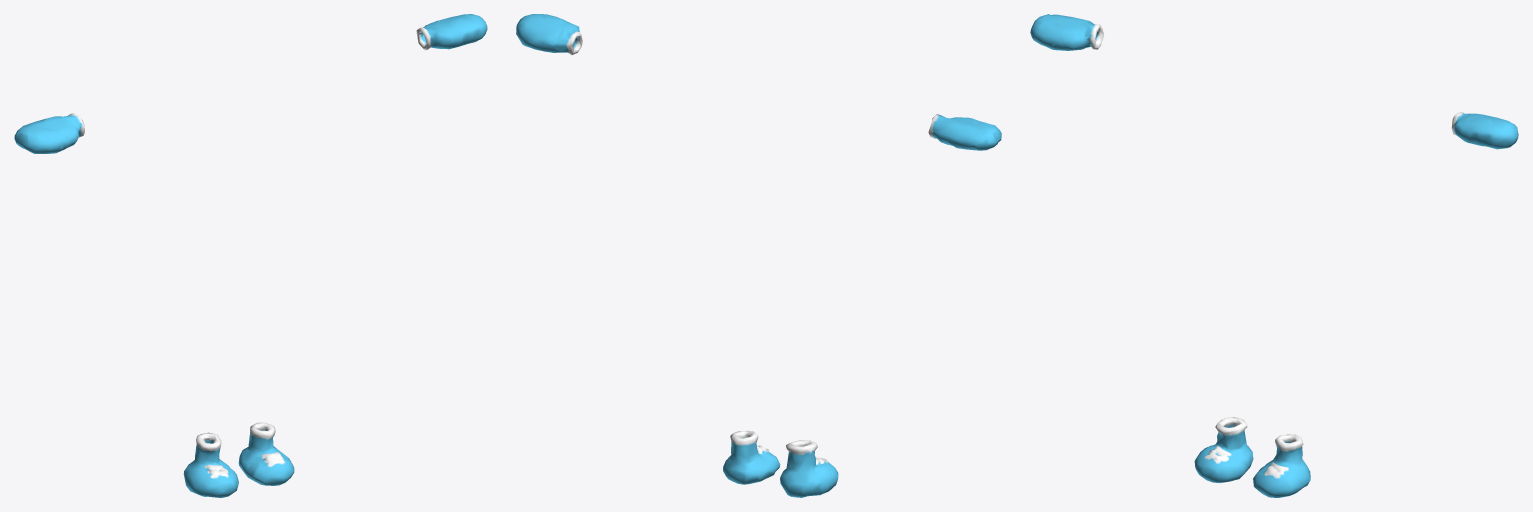
File: blue shoes and gloves.glb
3 views of the same model, side by side, from view 1: azimuth 30°, elevation 25°; view 2: azimuth 150°, elevation 25°; view 3: azimuth 330°, elevation 25° (orthographic). The views are drawn at different scales.
Visible parts, largest first — view 1: accessories_christmas_blue.001; view 2: accessories_christmas_blue.001; view 3: accessories_christmas_blue.001.
Part boxes in pixels (bbox=[...]): accessories_christmas_blue.001: bbox=[14, 14, 487, 497]; accessories_christmas_blue.001: bbox=[516, 14, 1001, 497]; accessories_christmas_blue.001: bbox=[1030, 14, 1518, 497].
Bounding box in the file's own units: 1.01 × 0.841 × 0.1319.
Materials: 1 (1 with a texture image).
